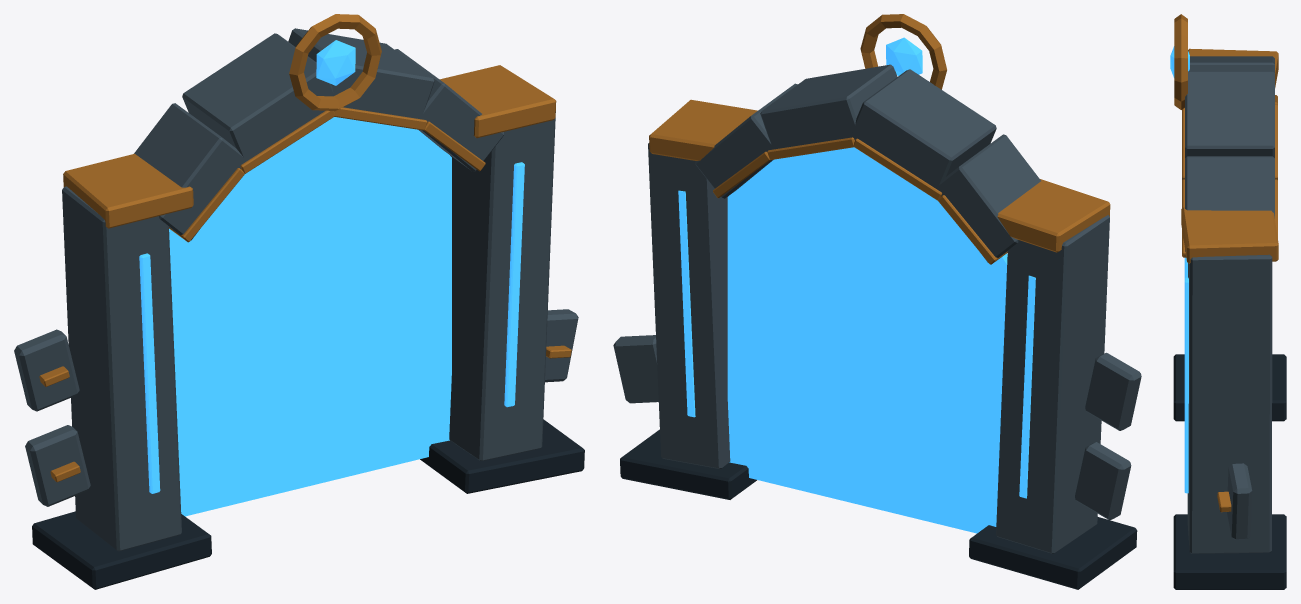
Rendered from portal_saved_world_LOD1.glb.
3 views of the same model, side by side, from view 1: azimuth 30°, elevation 25°; view 2: azimuth 150°, elevation 25°; view 3: azimuth 270°, elevation 25° (orthographic). The views are drawn at different scales.
Parts seen in each view (by area): view 1: portal_saved_world_LOD1; view 2: portal_saved_world_LOD1; view 3: portal_saved_world_LOD1.
Part boxes in pixels (x1,y1,x2,y2): portal_saved_world_LOD1: [14, 14, 584, 589]; portal_saved_world_LOD1: [613, 14, 1141, 589]; portal_saved_world_LOD1: [1170, 14, 1286, 589].
Size of the model in its own units: 6.09 by 5.35 by 1.21.
